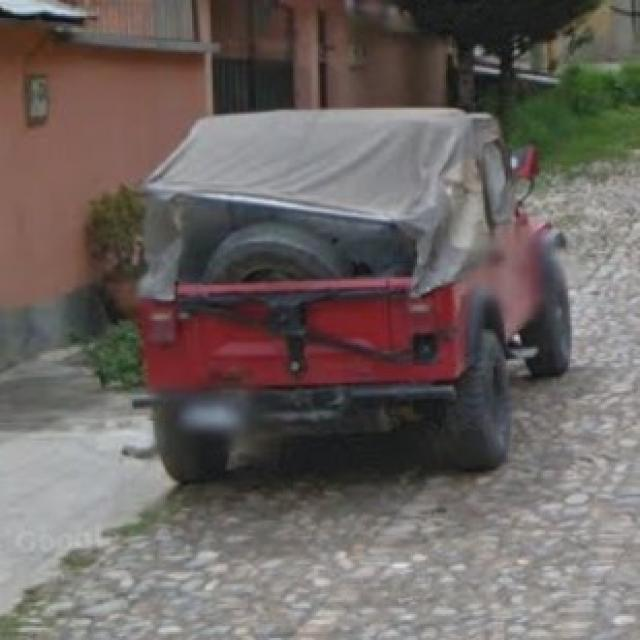car: (134, 99, 578, 471)
